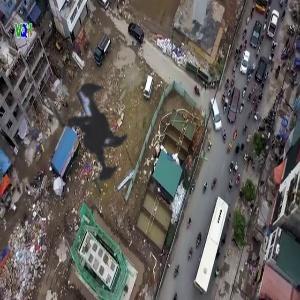drone: (6, 30, 202, 226)
